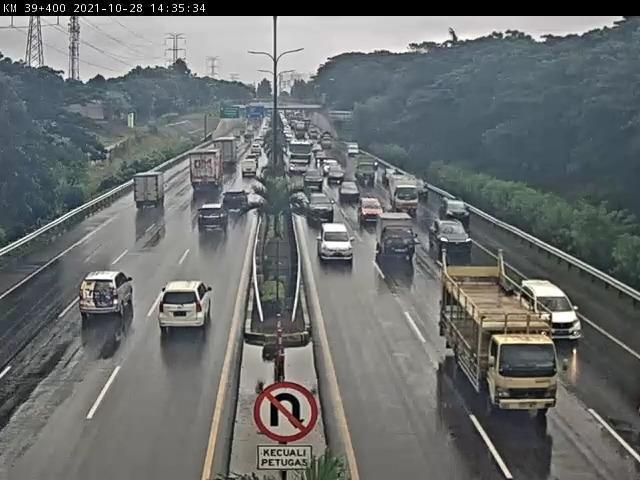car: (520, 280, 584, 343), (159, 281, 219, 339), (84, 271, 143, 320), (431, 220, 473, 256), (380, 216, 414, 259), (319, 222, 353, 260), (197, 206, 230, 233), (222, 190, 250, 217), (358, 196, 385, 223), (439, 200, 469, 224), (309, 196, 334, 223), (236, 163, 259, 183), (340, 181, 360, 201), (305, 169, 326, 186), (411, 175, 427, 195), (245, 157, 262, 171), (249, 147, 263, 160), (333, 172, 346, 186), (326, 160, 337, 171)
truck: (441, 264, 559, 412), (189, 152, 226, 195), (134, 172, 168, 212), (387, 177, 420, 213), (214, 137, 238, 169), (289, 139, 314, 169), (356, 159, 376, 183)
